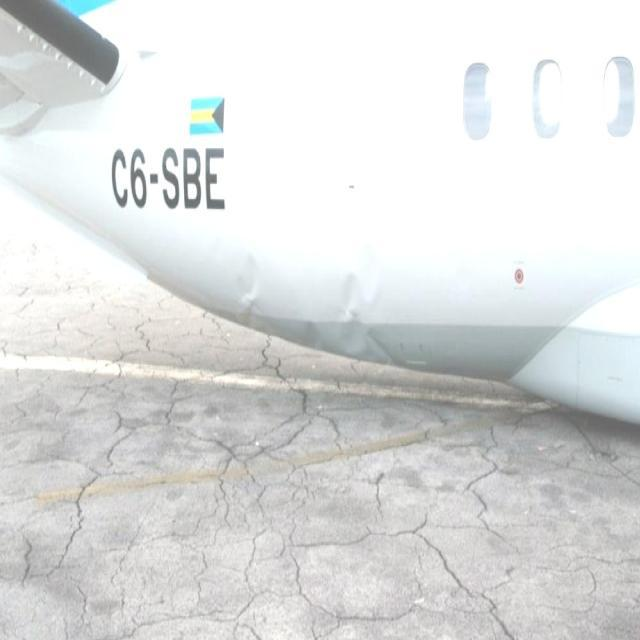dent: (233, 232, 388, 372)
